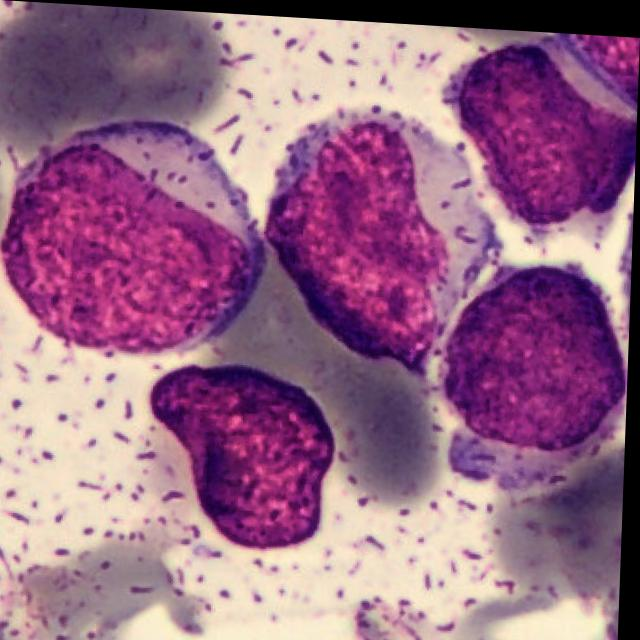Mieloblasto: (264, 103, 504, 369), (2, 116, 269, 352), (445, 261, 629, 479), (451, 34, 638, 221), (153, 361, 338, 546)
